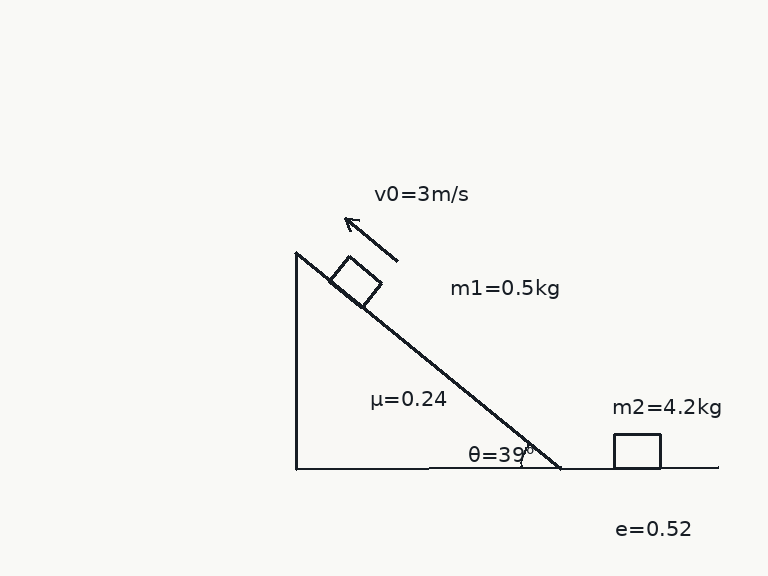block: (327, 254, 383, 308), (612, 432, 662, 470)
ramp: (294, 251, 563, 470)
